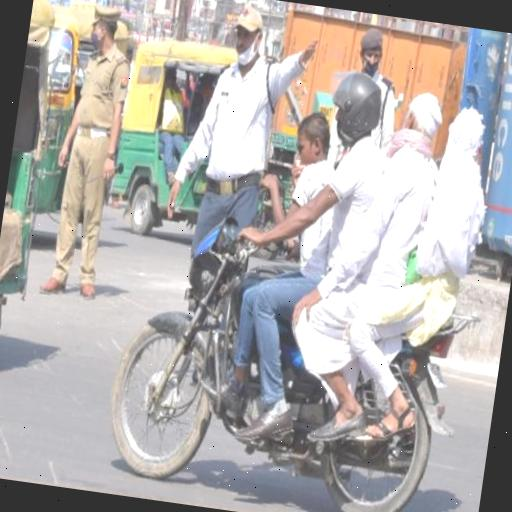helmet: (297, 64, 397, 303)
triple riding: (214, 72, 502, 438)
